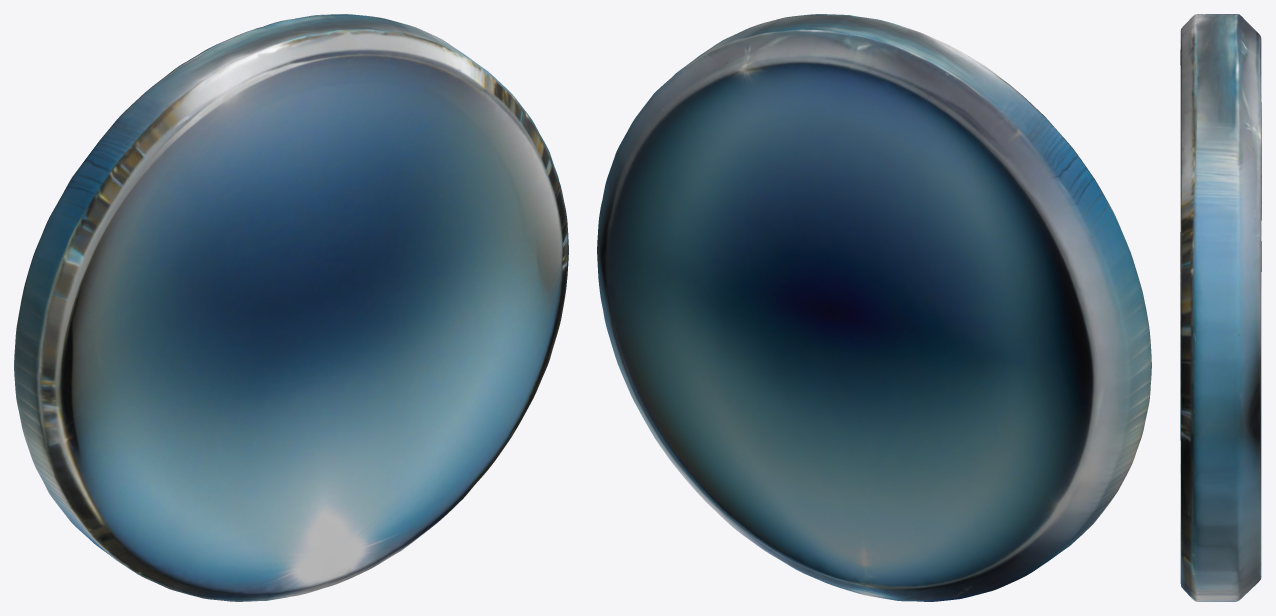
Rendered from convex_lens.glb.
The picture shows the model from 3 angles, left to right: view 1: azimuth 30°, elevation 25°; view 2: azimuth 150°, elevation 25°; view 3: azimuth 270°, elevation 25°; orthographic projection. The views are drawn at different scales.
Parts seen in each view (by area): view 1: Mesh1.0; view 2: Mesh1.0; view 3: Mesh1.0.
Boxes of the visible parts, x1,y1,x2,y2 form: Mesh1.0: (14, 14, 568, 601); Mesh1.0: (597, 14, 1151, 601); Mesh1.0: (1180, 14, 1261, 601).
Bounding box in the file's own units: 2 × 2 × 0.2771.
1 material, 1 textured.
